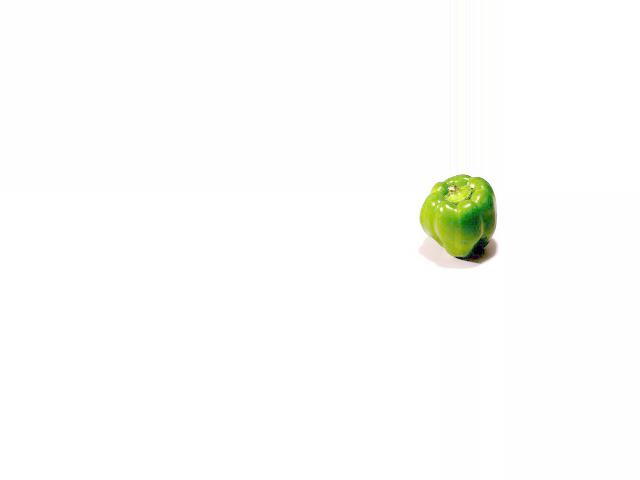bell_pepper: (416, 175, 498, 262)
